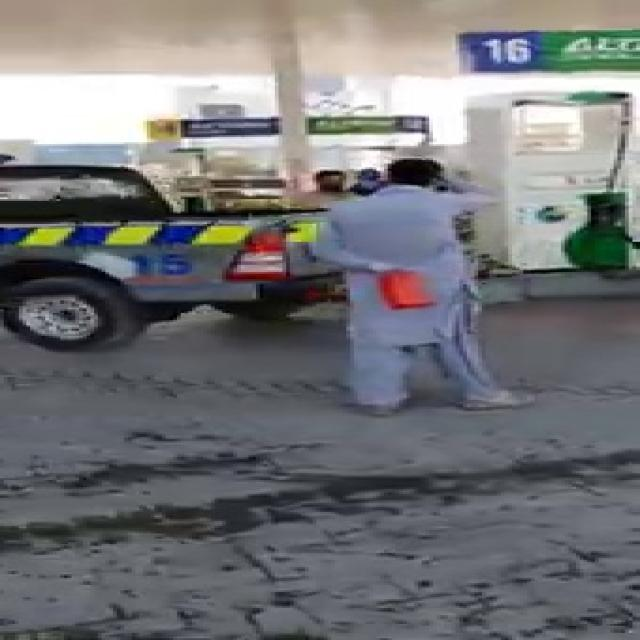police: (0, 165, 324, 342)
